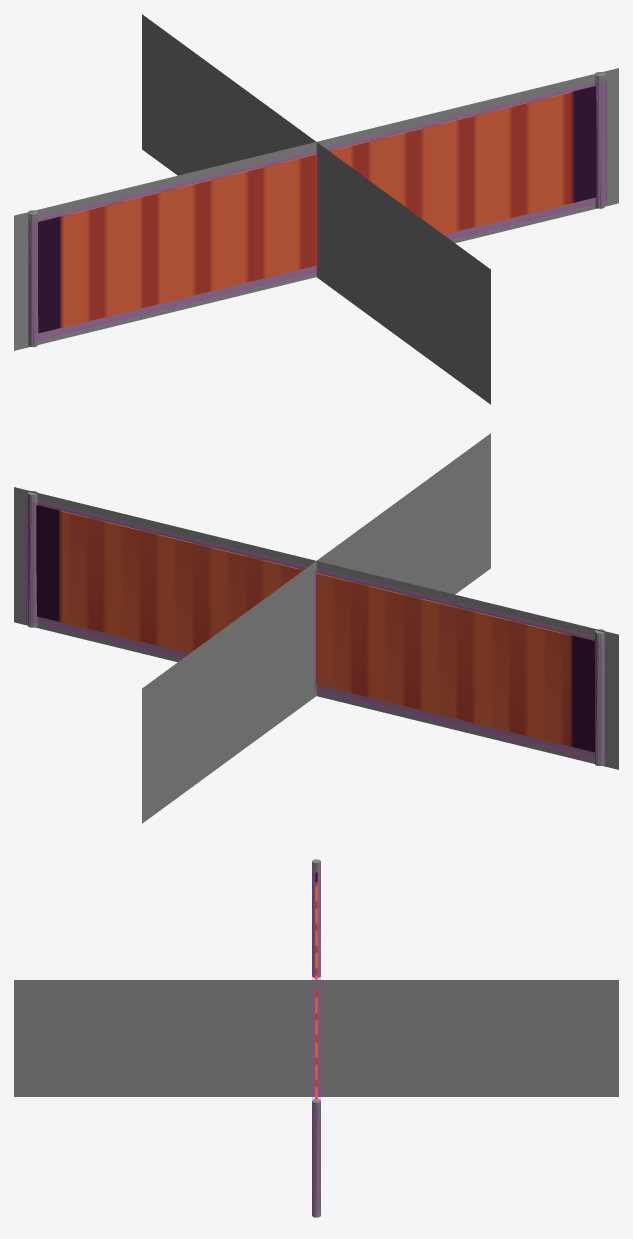
The model's file is ribbon_orange_5m.dae.
3 renders of one model, top to bottom at view 1: azimuth 30°, elevation 25°; view 2: azimuth 150°, elevation 25°; view 3: azimuth 270°, elevation 25°, orthographic. The views are drawn at different scales.
Visible parts, largest first — view 1: ribbon_orange_5m_a800, ribbon_orange_5m_a50, Colmesh_panel-1, ribbon_orange_5m_a200; view 2: ribbon_orange_5m_a800, ribbon_orange_5m_a50, Colmesh_panel-1, ribbon_orange_5m_a200; view 3: ribbon_orange_5m_a50, Colmesh_panel-1, ribbon_orange_5m_a800, ribbon_orange_5m_a200.
Part boxes in pixels (x1,y1,x2,y2): ribbon_orange_5m_a800: (28,72,604,346); ribbon_orange_5m_a50: (14,14,618,404); Colmesh_panel-1: (29,80,606,341); ribbon_orange_5m_a200: (28,72,605,346); ribbon_orange_5m_a800: (28,491,604,765); ribbon_orange_5m_a50: (14,433,618,823); Colmesh_panel-1: (26,499,603,760); ribbon_orange_5m_a200: (27,491,604,765); ribbon_orange_5m_a50: (14,980,618,1096); Colmesh_panel-1: (312,868,320,1211); ribbon_orange_5m_a800: (312,859,320,1217); ribbon_orange_5m_a200: (312,861,320,1217).
Bounding box in the file's own units: 5.25 × 5.25 × 1.12.
Materials: 3 (1 with a texture image).
